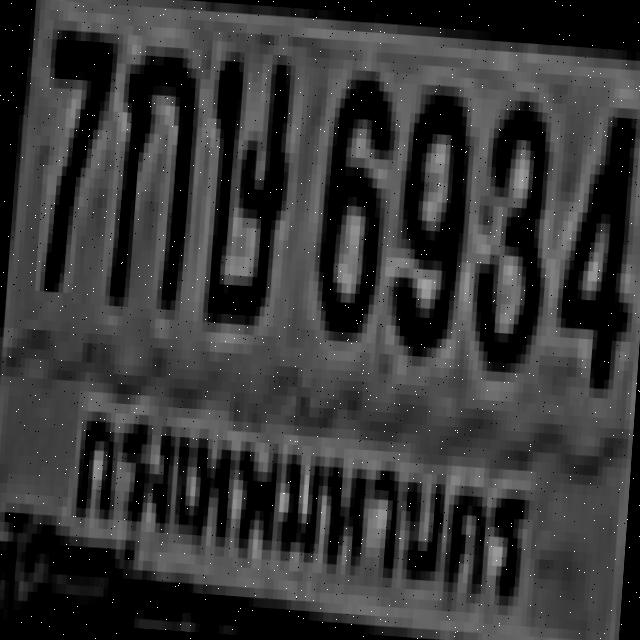10GorGai: (104, 34, 198, 301)
3: (468, 89, 548, 364)
4: (552, 94, 637, 380)
48SorRueSi: (198, 41, 292, 316)
6: (310, 63, 389, 329)
7: (34, 19, 110, 284)
9: (384, 73, 470, 348)
Bangkok: (65, 381, 542, 623)
